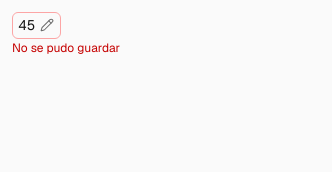
it: EditableCell › error state shows the message and can be edited again
Expected: the message reads "No se pudo guardar", [12,40,120,56]
Step 1. Click the button named "Editar" → (36, 25), box [12,12,61,38]
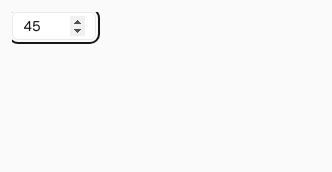
Result: the number field is shown at [24,16,84,36]
